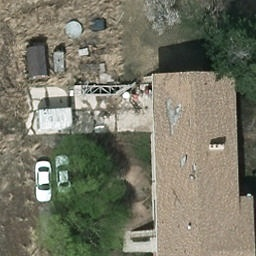car: (33, 160, 52, 203), (56, 154, 73, 192)
